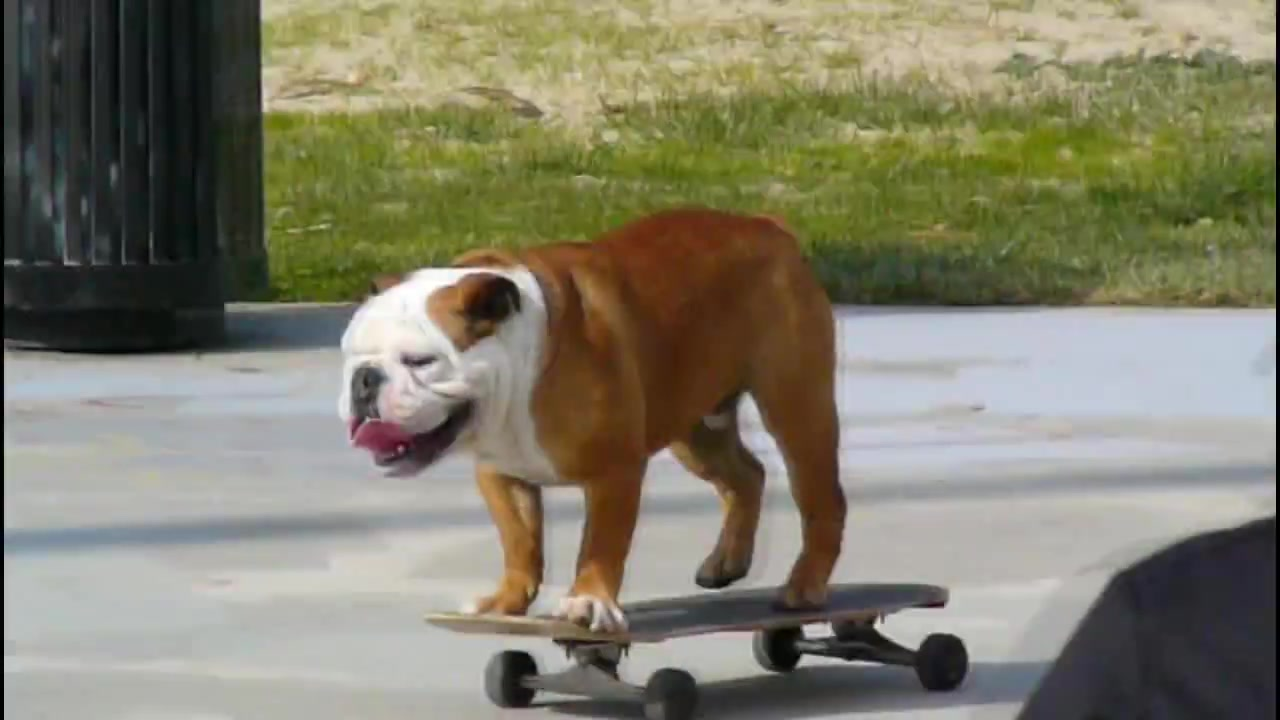dog: (338, 210, 868, 631)
